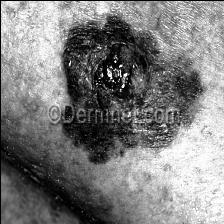Potentially Malignant Skin Tumors: (61, 14, 150, 118)
